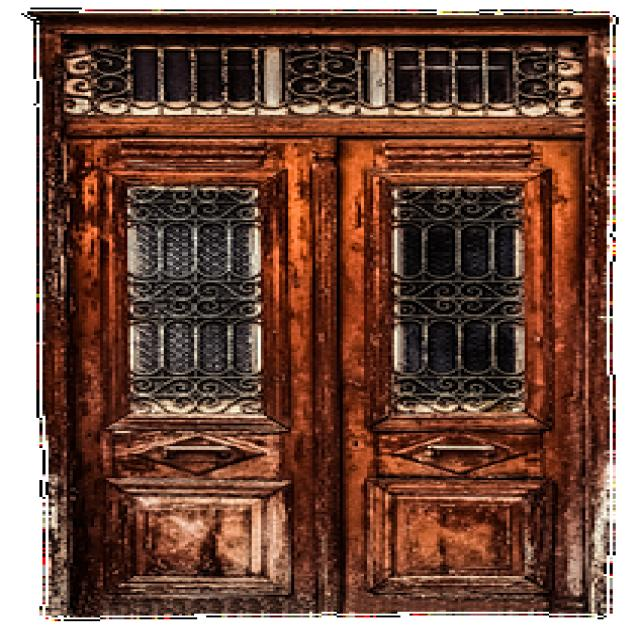corrosion: (32, 9, 611, 616), (147, 482, 284, 569)
